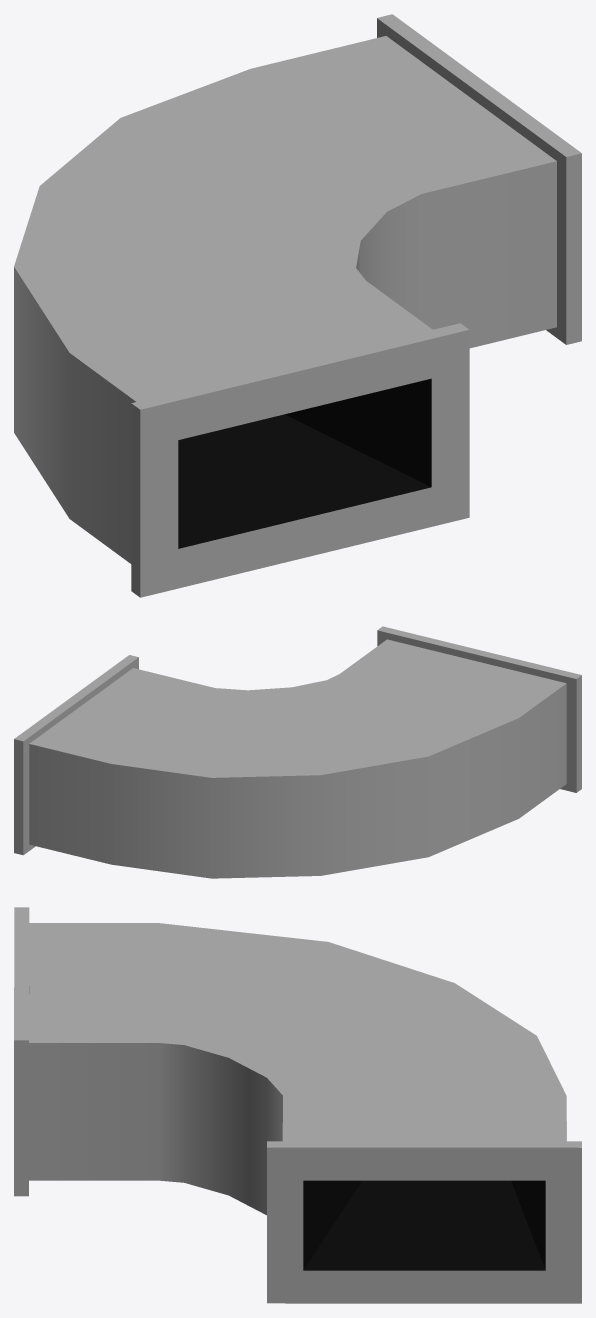
File: Flip_Mo2.fbx
The picture shows the model from 3 angles, top to bottom: view 1: azimuth 30°, elevation 25°; view 2: azimuth 150°, elevation 25°; view 3: azimuth 270°, elevation 25°; orthographic projection. The views are drawn at different scales.
Visible parts, largest first — view 1: Building.005; view 2: Building.005; view 3: Building.005.
Boxes of the visible parts, <box> form: Building.005: <box>14,14,581,597</box>; Building.005: <box>14,626,581,878</box>; Building.005: <box>14,907,581,1303</box>.
Bounding box in the file's own units: 174 × 52.45 × 173.
